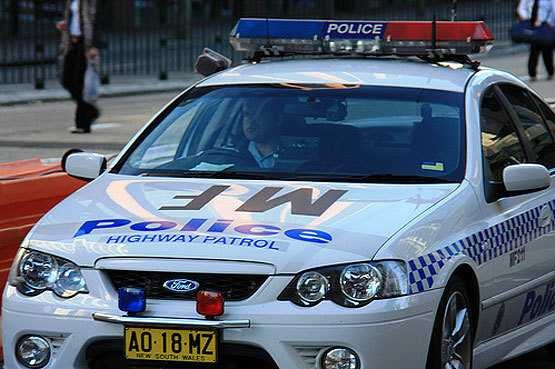Police Car: (51, 17, 555, 369)
